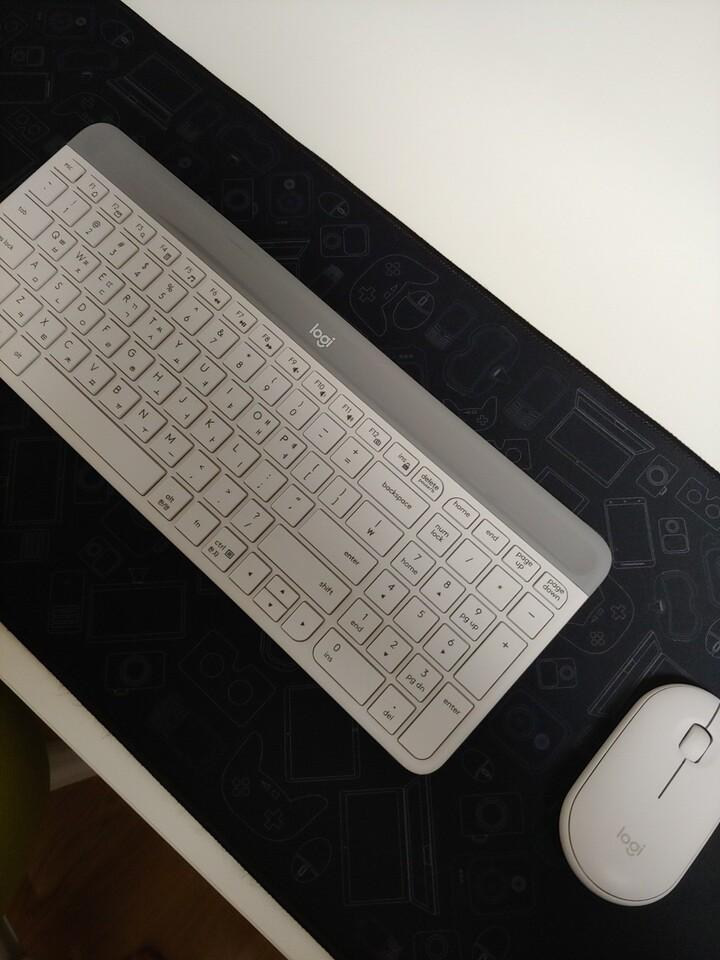mouse: (557, 681, 719, 907)
